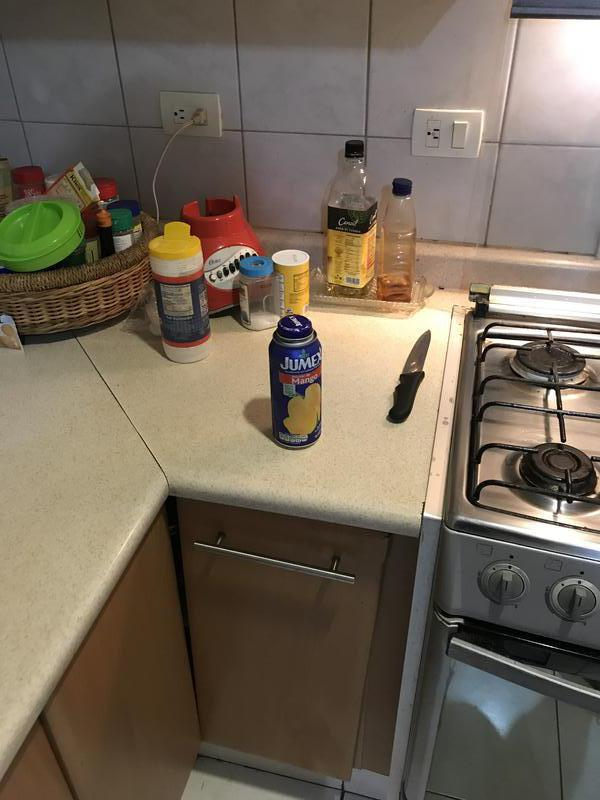jugo_jumex: (267, 314, 325, 449)
